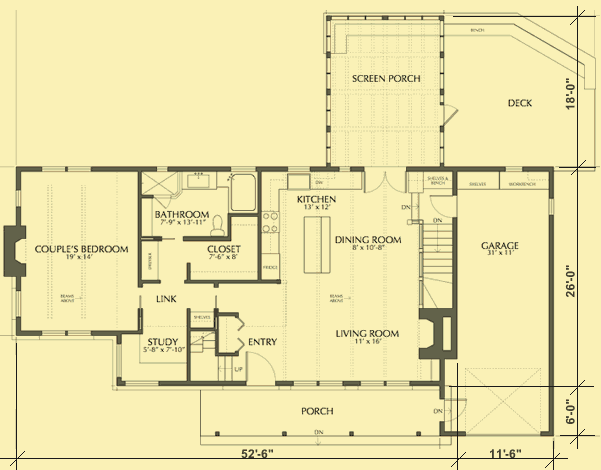this bathroom has a small and large sink with shower and tub space: (134, 167, 262, 285)
this kitchen has a cooking range, sink and counter: (262, 169, 366, 287)
